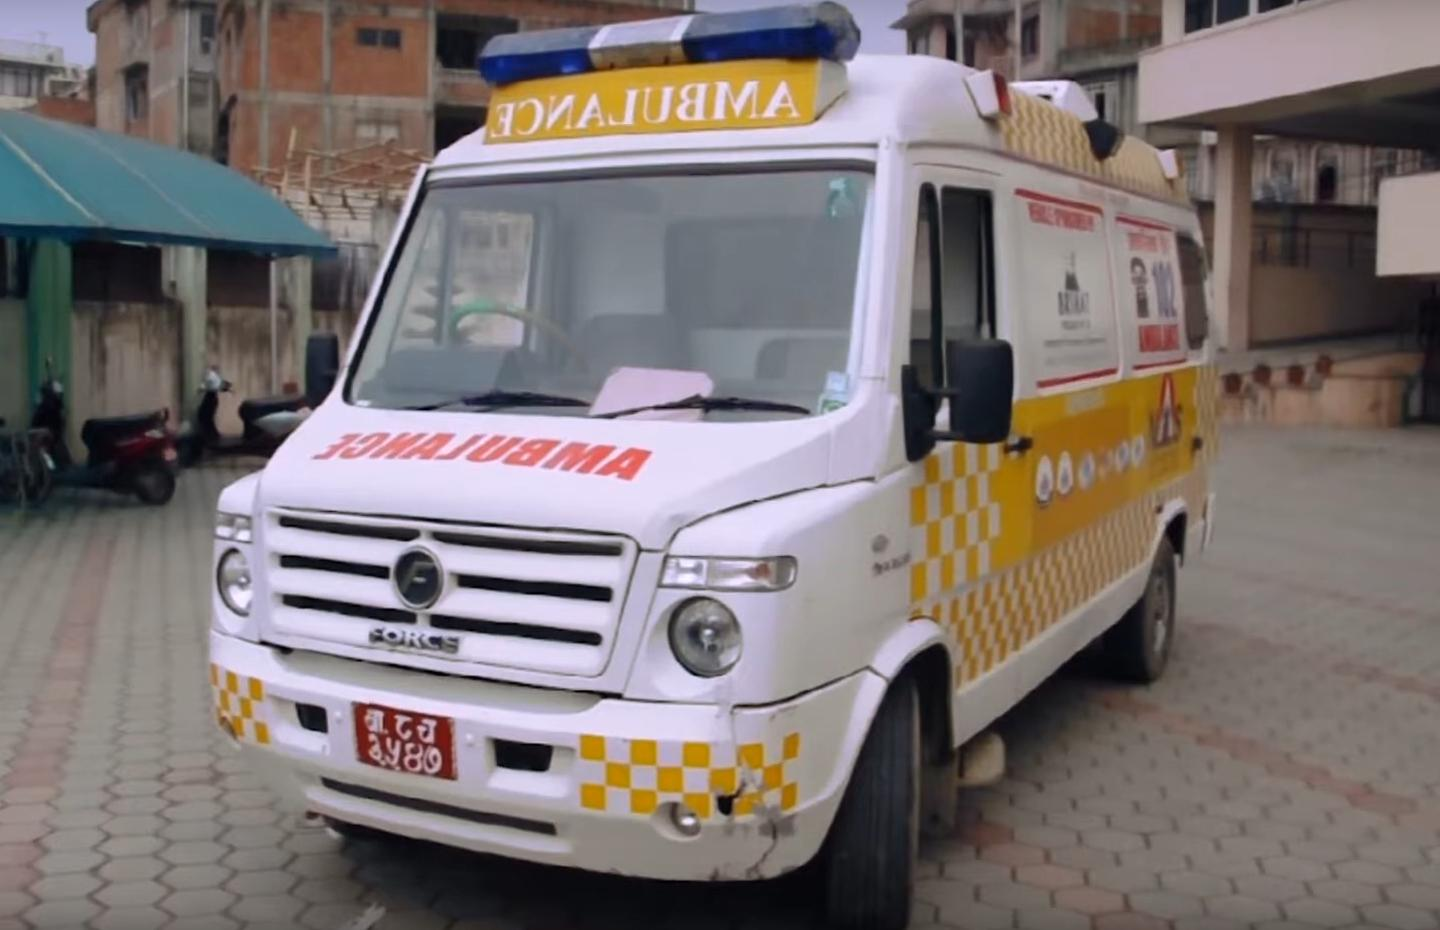ambulance: (207, 1, 1222, 930)
scooter: (20, 375, 181, 504), (189, 365, 314, 461)
